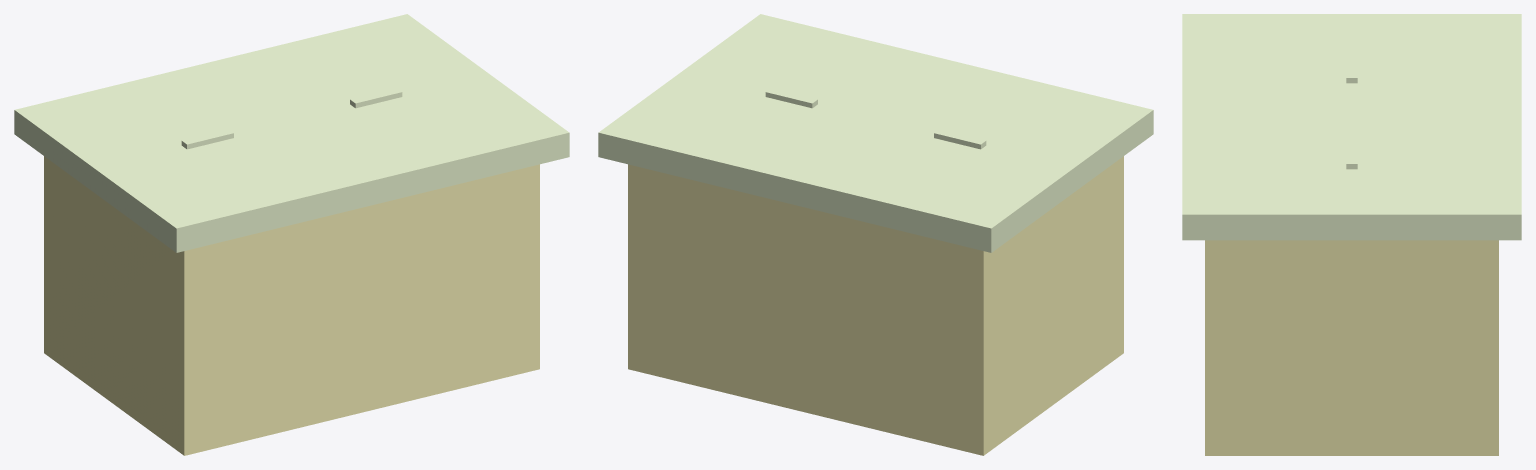
The model's file is furniture_utility_pull_box.glb.
3 renders of one model, left to right at view 1: azimuth 30°, elevation 25°; view 2: azimuth 150°, elevation 25°; view 3: azimuth 270°, elevation 25°, orthographic. The views are drawn at different scales.
Parts seen in each view (by area): view 1: base, lid; view 2: base, lid; view 3: lid, base, handle_left, handle_right.
Part boxes in pixels (box(x1,y1,x2,y2)): base: box(44, 156, 539, 455); lid: box(14, 14, 569, 252); base: box(628, 156, 1123, 455); lid: box(598, 14, 1153, 252); lid: box(1182, 14, 1521, 240); base: box(1205, 240, 1498, 455); handle_left: box(1346, 54, 1357, 83); handle_right: box(1346, 140, 1357, 169).
Bounding box in the file's own units: 0.84 × 0.5 × 0.6.
